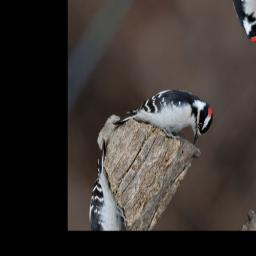Woodpecker: (110, 44, 219, 193)
